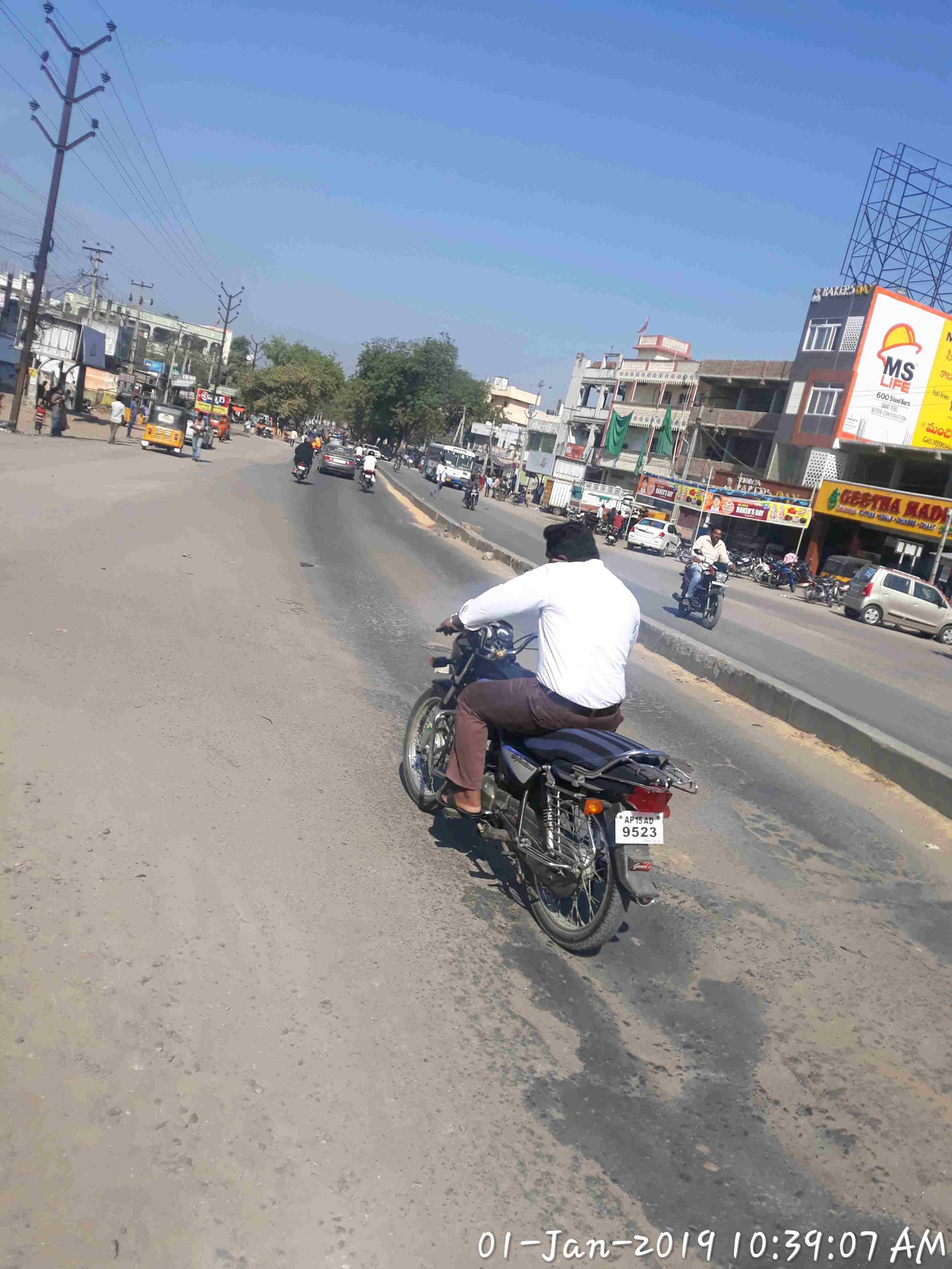plate: (611, 802, 672, 848)
